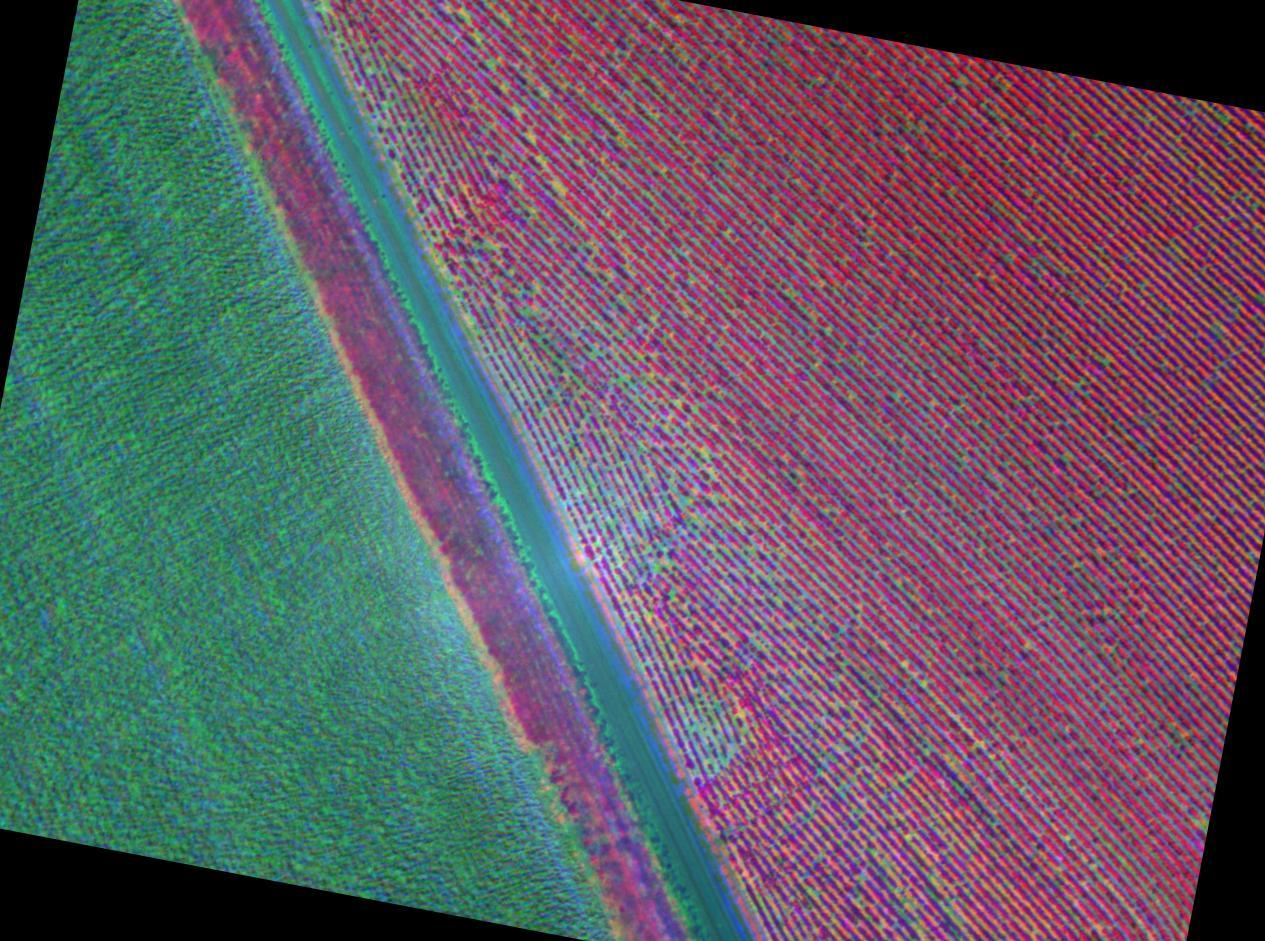dc: (651, 565, 658, 572), (682, 499, 688, 505), (525, 310, 530, 315), (710, 758, 714, 762), (929, 876, 932, 880)
